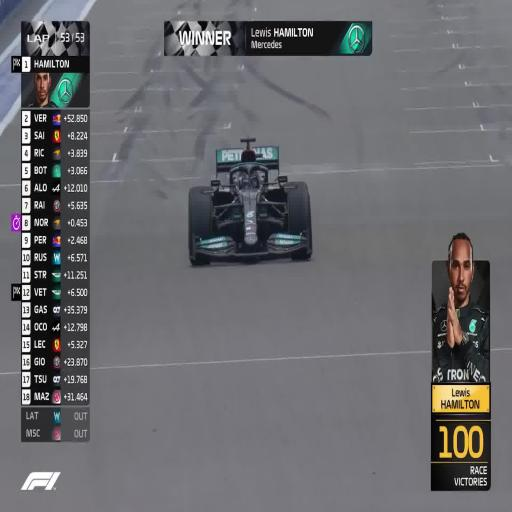f1_car: (189, 137, 312, 265)
